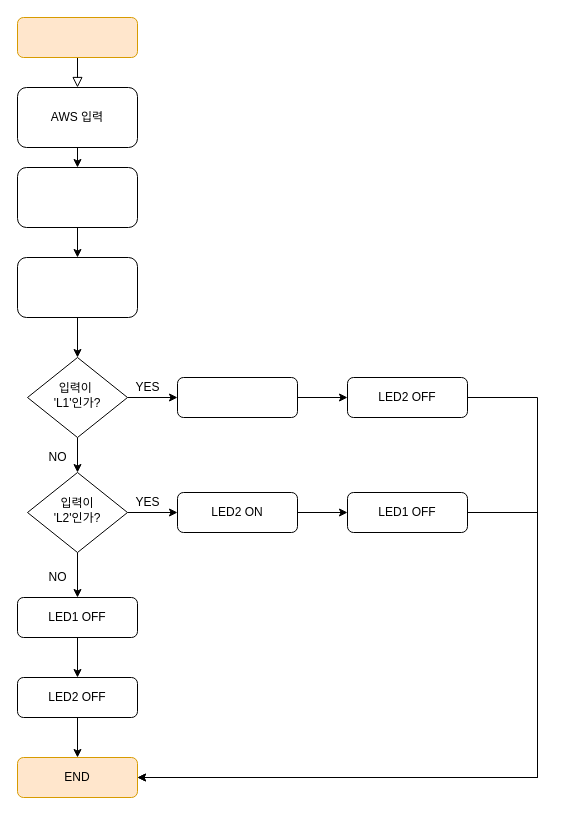
Image size: 563x815. Some labels were removed from this diagram. Here are the shapes that lost their labels. From the top down, the centre of each, then its label:
At (77,37): "START".
At (77,197): "Node-RED receive".
At (77,287): "ESP 32 receive".
At (237,397): "LED1 ON".
